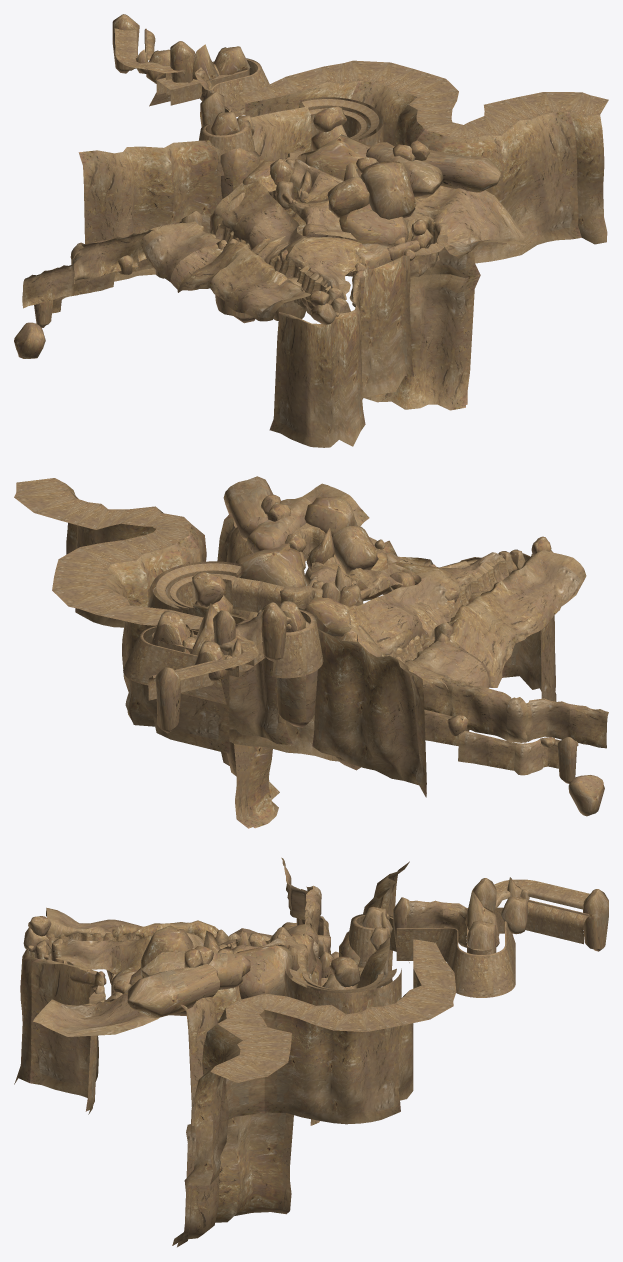
Rendered from track combined.fbx.
3 views of the same model, one above another, from view 1: azimuth 30°, elevation 25°; view 2: azimuth 150°, elevation 25°; view 3: azimuth 270°, elevation 25° (orthographic). The views are drawn at different scales.
Visible parts, largest first — view 1: pCube63; view 2: pCube63; view 3: pCube63.
Boxes of the visible parts, x1=… form: pCube63: x1=14, y1=14, x2=608, y2=447; pCube63: x1=14, y1=476, x2=608, y2=828; pCube63: x1=14, y1=857, x2=608, y2=1247.
Bounding box in the file's own units: 45588 × 22335 × 40201.
